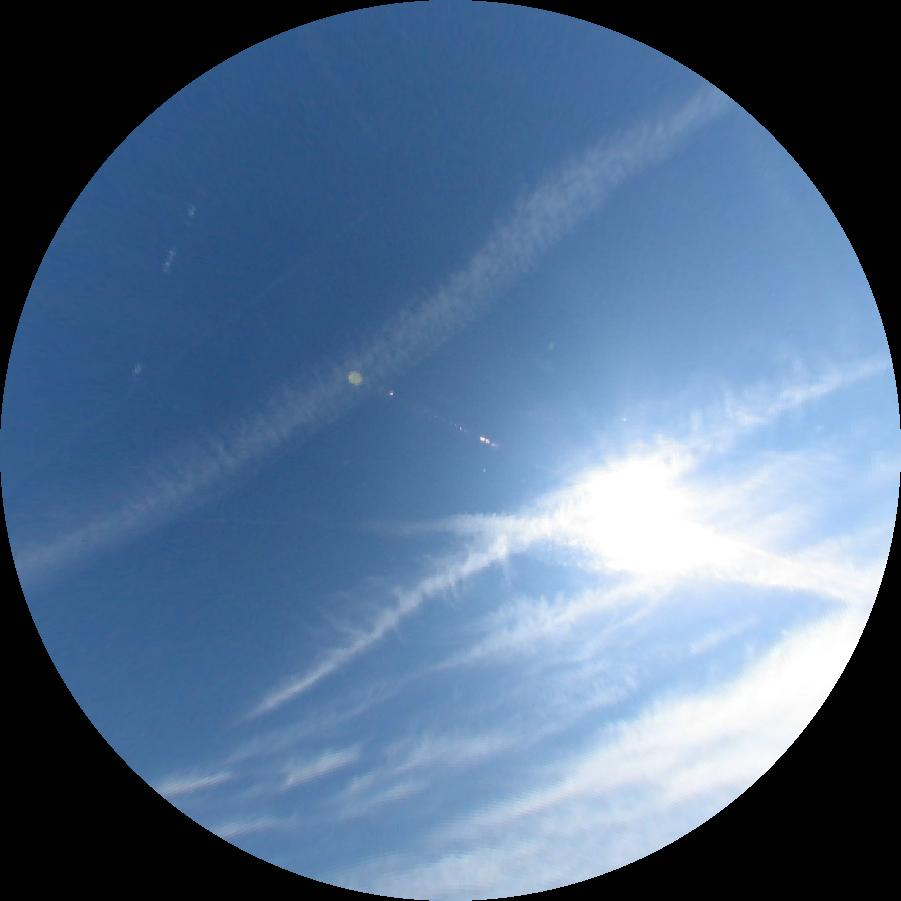contrail old: (8, 210, 372, 487)
contrail veryold: (13, 79, 737, 591), (152, 442, 895, 844), (233, 349, 889, 729), (318, 516, 859, 602)
parasite: (137, 132, 216, 364), (699, 528, 872, 594), (24, 509, 284, 524)
sun: (596, 474, 684, 553)
